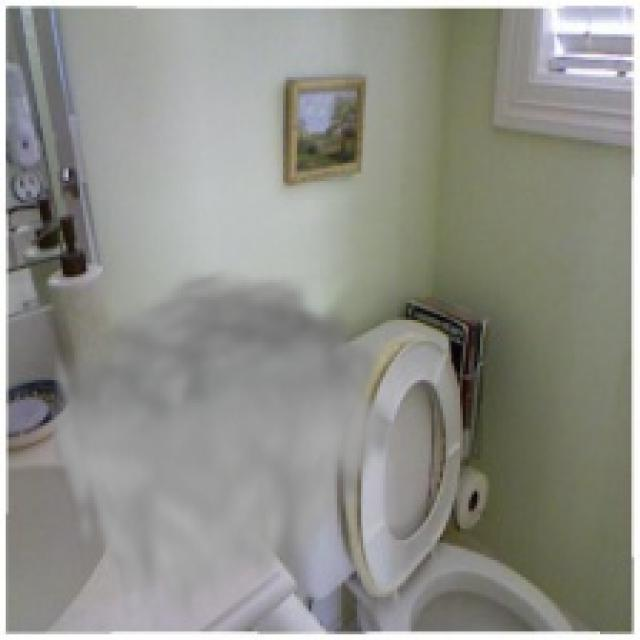Smoke: (46, 263, 400, 632)
